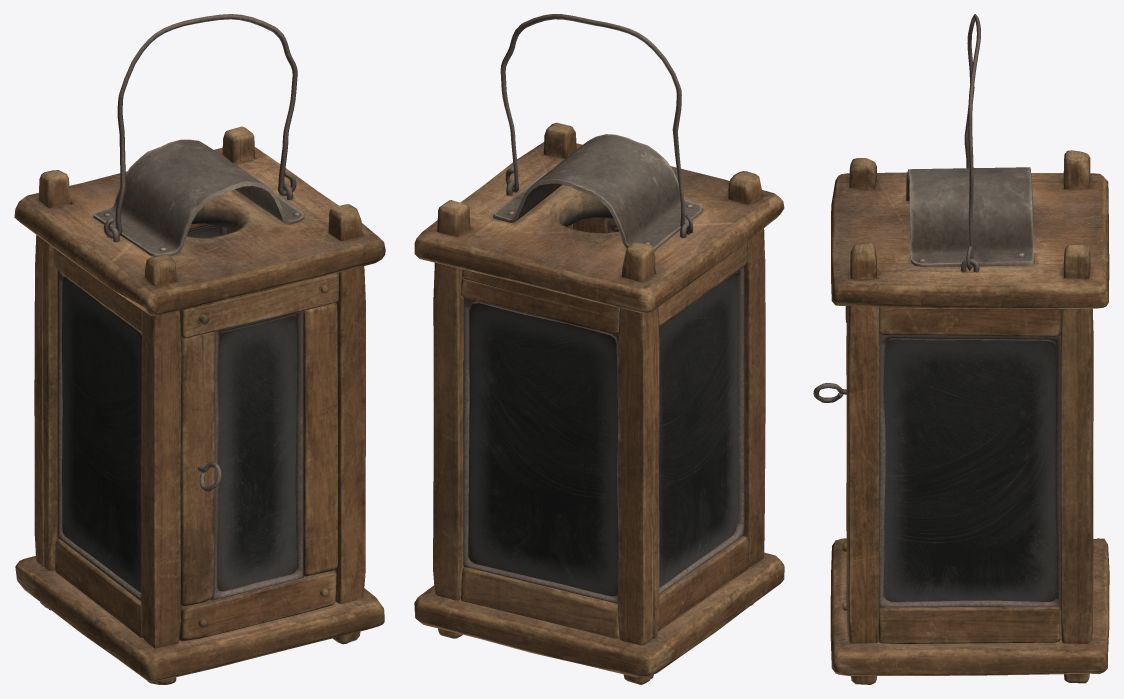
Rendered from wooden_lantern_01.glb.
3 renders of one model, left to right at view 1: azimuth 30°, elevation 25°; view 2: azimuth 150°, elevation 25°; view 3: azimuth 270°, elevation 25°, orthographic.
Parts seen in each view (by area): view 1: wooden_lantern_01, wooden_lantern_01_door, wooden_lantern_01_handle; view 2: wooden_lantern_01, wooden_lantern_01_handle, wooden_lantern_01_door; view 3: wooden_lantern_01, wooden_lantern_01_handle, wooden_lantern_01_door.
Boxes of the visible parts, box(x1,y1,x2,y2) form: wooden_lantern_01: box(14, 126, 385, 684); wooden_lantern_01_door: box(179, 272, 339, 641); wooden_lantern_01_handle: box(103, 14, 297, 238); wooden_lantern_01: box(414, 122, 784, 684); wooden_lantern_01_handle: box(500, 14, 692, 234); wooden_lantern_01_door: box(573, 217, 618, 233); wooden_lantern_01: box(830, 150, 1109, 684); wooden_lantern_01_handle: box(964, 14, 980, 270); wooden_lantern_01_door: box(813, 306, 847, 610).
Size of the model in its own units: 0.221 by 0.5301 by 0.2347.
2 materials, 2 textured.
